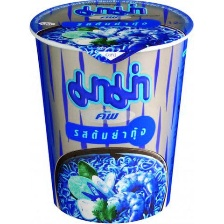paper_cup: (24, 0, 197, 224)
